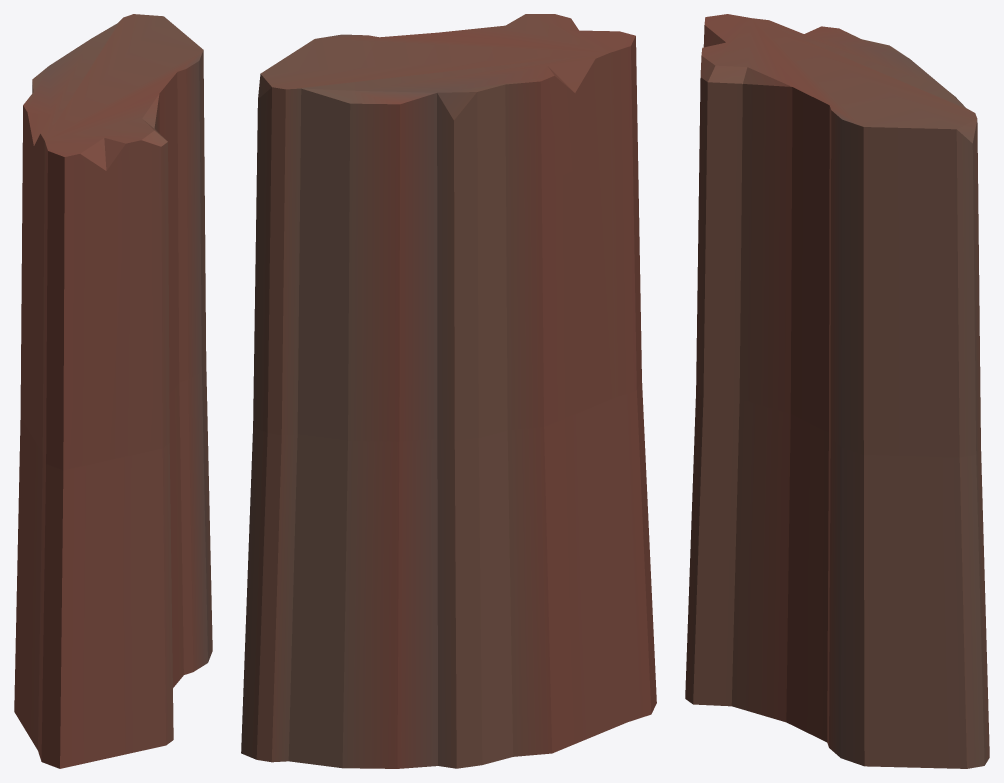
Rendered from SuperGrid_RingQuarter_017_Vlad.fbx.
3 views of the same model, side by side, from view 1: azimuth 30°, elevation 25°; view 2: azimuth 150°, elevation 25°; view 3: azimuth 270°, elevation 25° (orthographic). The views are drawn at different scales.
Visible parts, largest first — view 1: SuperGrid_RingQuarter.017; view 2: SuperGrid_RingQuarter.017; view 3: SuperGrid_RingQuarter.017.
Boxes of the visible parts, x1,y1,x2,y2 form: SuperGrid_RingQuarter.017: [14, 14, 212, 768]; SuperGrid_RingQuarter.017: [241, 14, 656, 768]; SuperGrid_RingQuarter.017: [685, 14, 989, 768].
Bounding box in the file's own units: 214 × 500 × 218.
